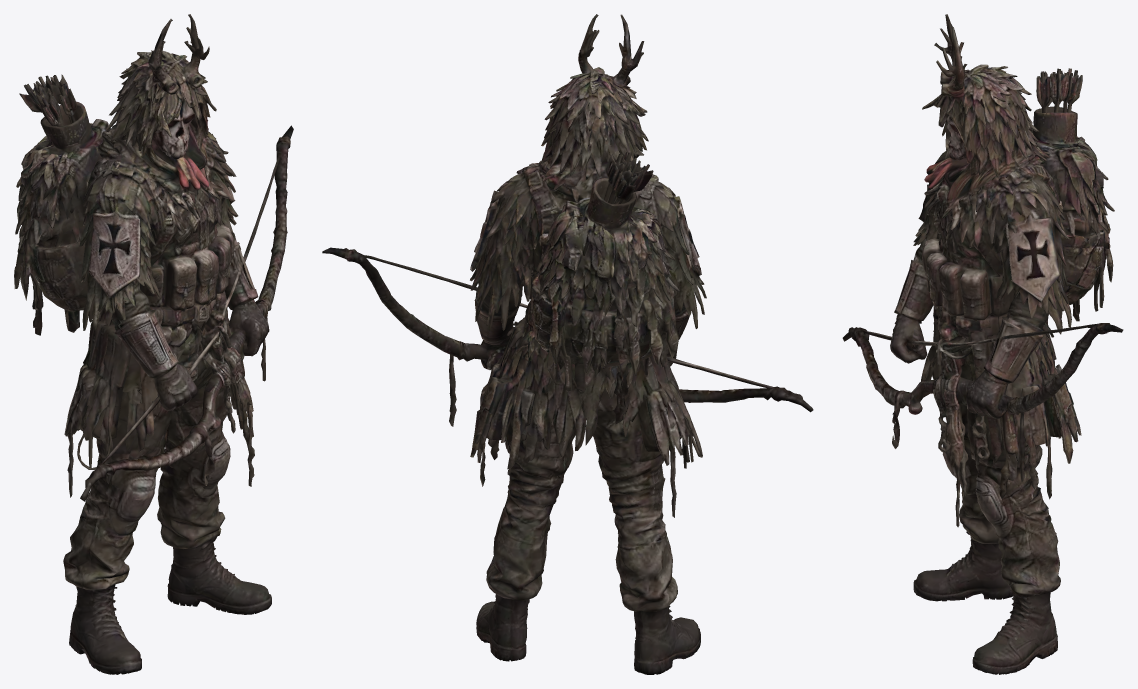
Rendered from zryachiy-archer.glb.
3 views of the same model, side by side, from view 1: azimuth 30°, elevation 25°; view 2: azimuth 150°, elevation 25°; view 3: azimuth 270°, elevation 25° (orthographic). The views are drawn at different scales.
Parts seen in each view (by area): view 1: tripo_node_a16568ab-f152-4556-98e2-e7719b6c5c97; view 2: tripo_node_a16568ab-f152-4556-98e2-e7719b6c5c97; view 3: tripo_node_a16568ab-f152-4556-98e2-e7719b6c5c97.
Boxes of the visible parts, bbox=[...] form: tripo_node_a16568ab-f152-4556-98e2-e7719b6c5c97: bbox=[14, 14, 293, 674]; tripo_node_a16568ab-f152-4556-98e2-e7719b6c5c97: bbox=[322, 14, 813, 674]; tripo_node_a16568ab-f152-4556-98e2-e7719b6c5c97: bbox=[842, 14, 1123, 674].
Size of the model in its own units: 0.5772 by 0.9783 by 0.4107.
1 material, 1 textured.
